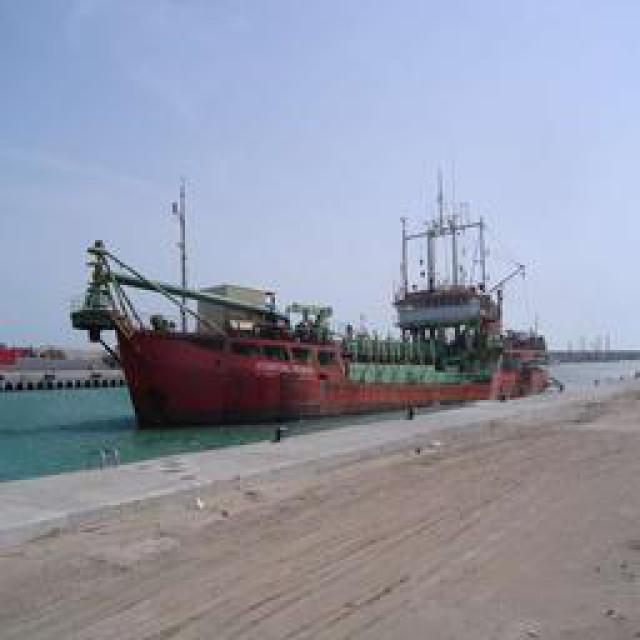Ship: (84, 200, 577, 433)
